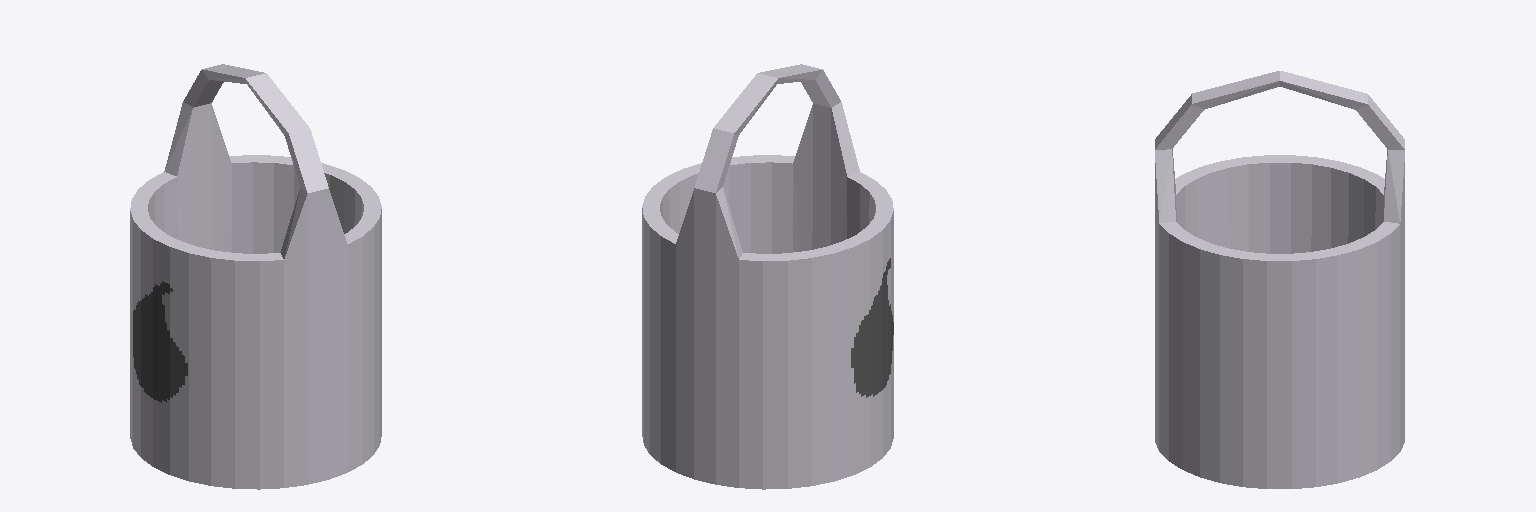
3 views of the same model, side by side, from view 1: azimuth 30°, elevation 25°; view 2: azimuth 150°, elevation 25°; view 3: azimuth 270°, elevation 25° (orthographic).
Parts seen in each view (by area): view 1: paintBucket_円柱; view 2: paintBucket_円柱; view 3: paintBucket_円柱.
Boxes of the visible parts, box(x1,y1,x2,y2) form: paintBucket_円柱: box(130, 64, 381, 489); paintBucket_円柱: box(642, 64, 893, 489); paintBucket_円柱: box(1155, 71, 1404, 488).
Size of the model in its own units: 1.99 by 3.16 by 1.99.
1 materials, 1 textured.